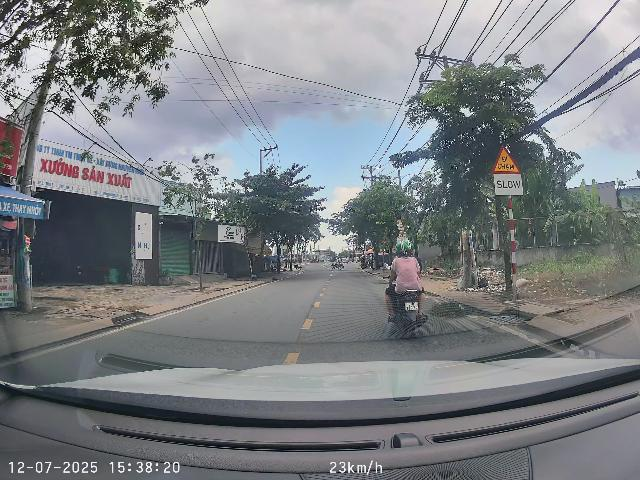245-di-cham: (492, 145, 522, 174)
